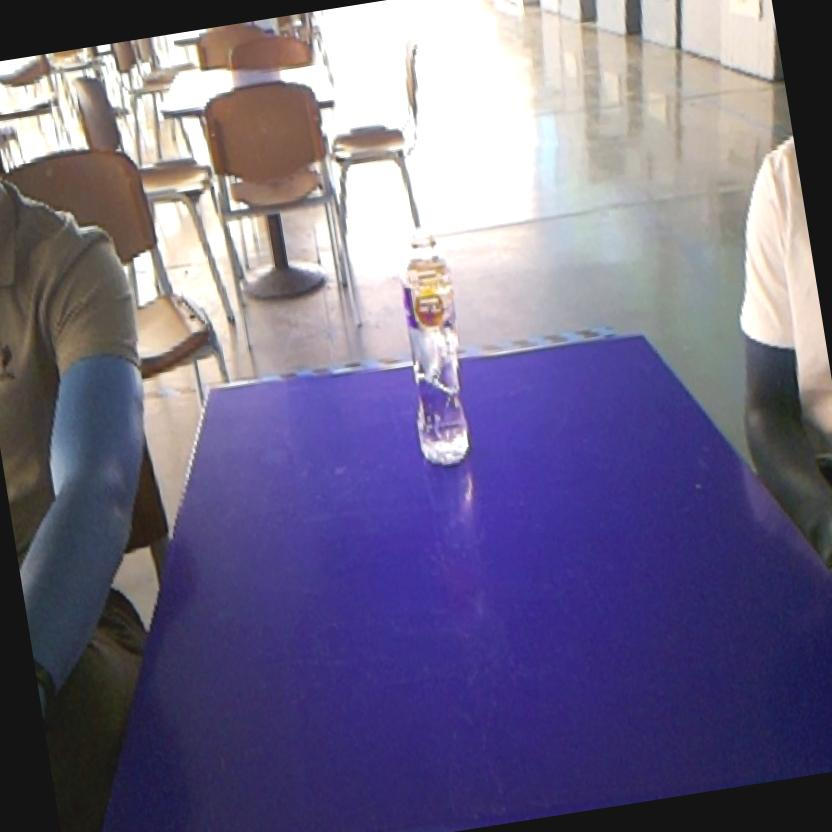no_cap: (380, 216, 492, 477)
